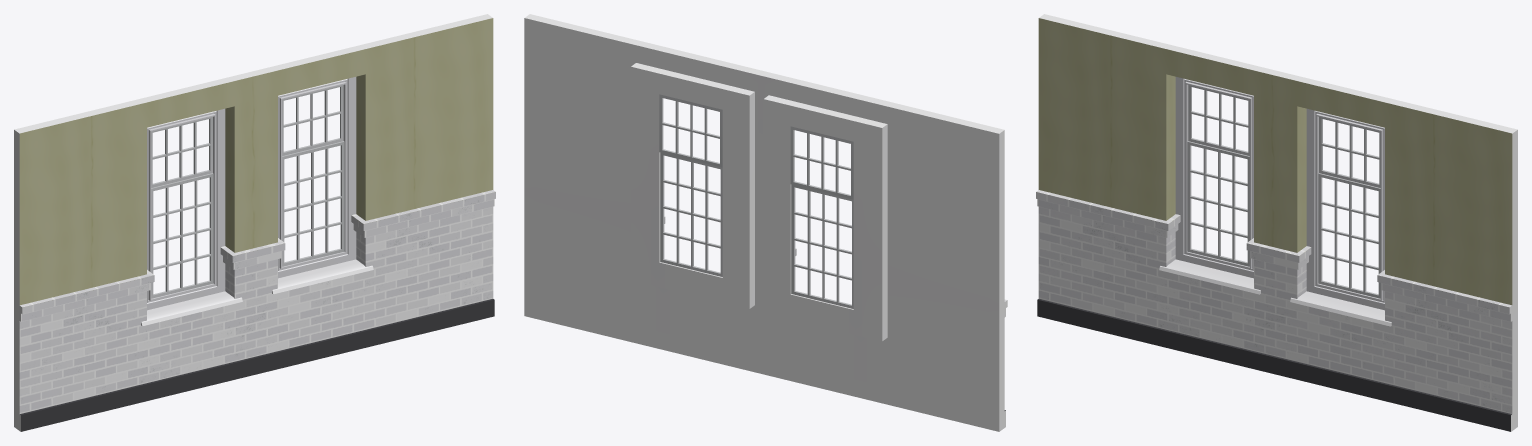
File: SM_Buildings_WallWindowDouble_5x3_01.fbx
The picture shows the model from 3 angles, left to right: view 1: azimuth 30°, elevation 25°; view 2: azimuth 150°, elevation 25°; view 3: azimuth 330°, elevation 25°; orthographic projection.
Parts seen in each view (by area): view 1: SM_Buildings_WallWindowDouble_5x3_01; view 2: SM_Buildings_WallWindowDouble_5x3_01; view 3: SM_Buildings_WallWindowDouble_5x3_01.
Boxes of the visible parts, x1,y1,x2,y2 form: SM_Buildings_WallWindowDouble_5x3_01: [14, 14, 495, 431]; SM_Buildings_WallWindowDouble_5x3_01: [524, 14, 1007, 431]; SM_Buildings_WallWindowDouble_5x3_01: [1036, 14, 1517, 431].
Size of the model in its own units: 500 by 300 by 24.64.
Materials: 1 (1 with a texture image).
